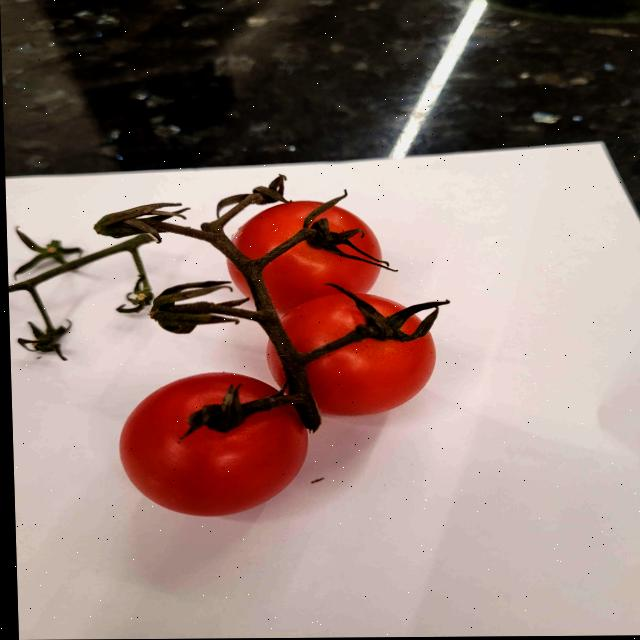ripe2: (120, 373, 308, 516), (263, 206, 382, 326), (307, 333, 435, 416), (232, 201, 324, 259), (278, 291, 364, 352), (315, 207, 382, 258), (347, 288, 404, 318), (348, 288, 404, 318), (227, 260, 251, 298), (228, 262, 250, 298), (267, 342, 285, 384)
